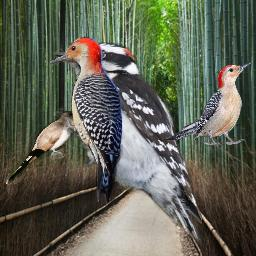Cuckoo: (5, 111, 85, 184)
Woodpecker: (53, 42, 202, 246), (49, 36, 123, 202), (161, 60, 255, 146)
